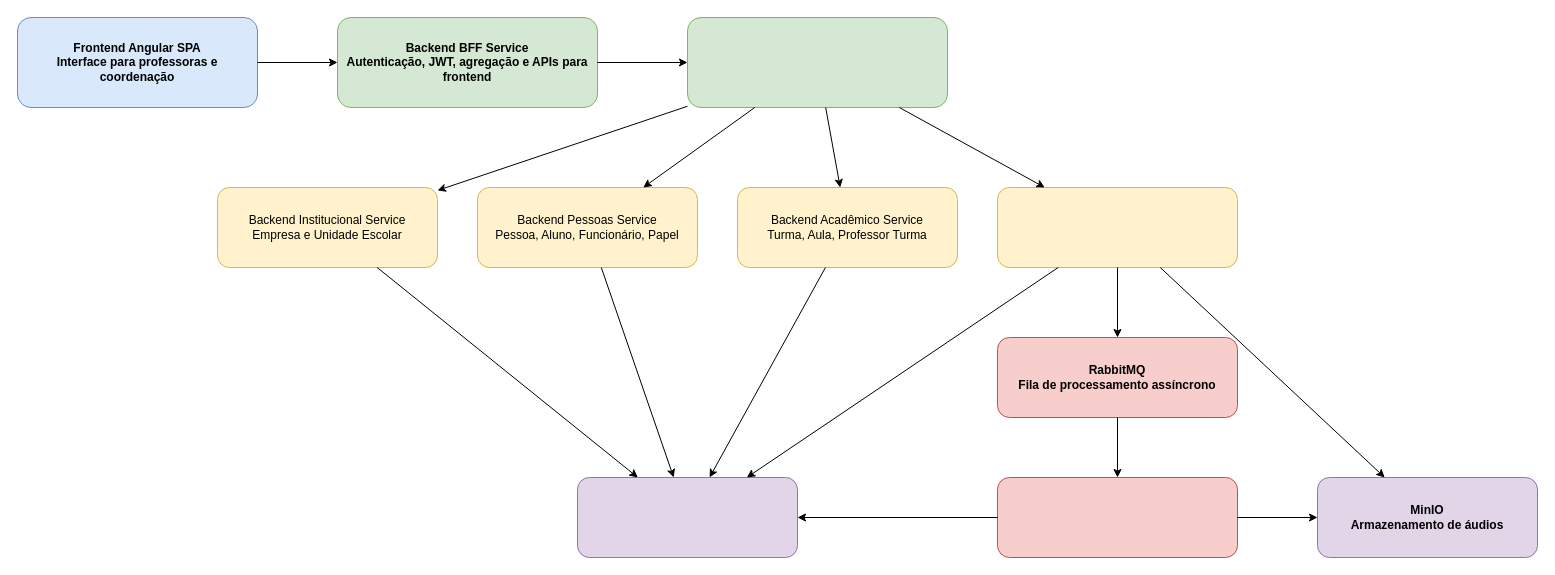
Some shapes in this 1555 by 575 pixel diagram are drawn without their labels. Each missing label, with the centre of its shape:
"Backend AI Worker Whisper + Llama2 13b" belongs at (1117,517).
"Backend Aplicação Service Orquestração e regras de aplicação" belongs at (817,62).
"Backend Pedagógico Service Diário, Áudio, Transcrição, Resumo IA" belongs at (1117,227).
"MySQL 8.4.8 Dados estruturados do sistema" belongs at (687,517).
